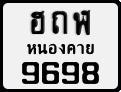letters: (72, 10, 91, 36), (21, 61, 40, 85), (41, 61, 60, 85), (51, 11, 68, 35), (62, 61, 79, 85), (30, 10, 45, 35), (82, 62, 99, 84)
province: (27, 43, 94, 55)
